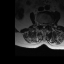CCS_normal: (43, 21, 45, 29)
LFS_severe_stenosis: (46, 22, 48, 26)
LLS_stenosis: (44, 21, 46, 27)
RFS_normal: (39, 21, 41, 26)
RLS_stenosis: (41, 21, 43, 27)
